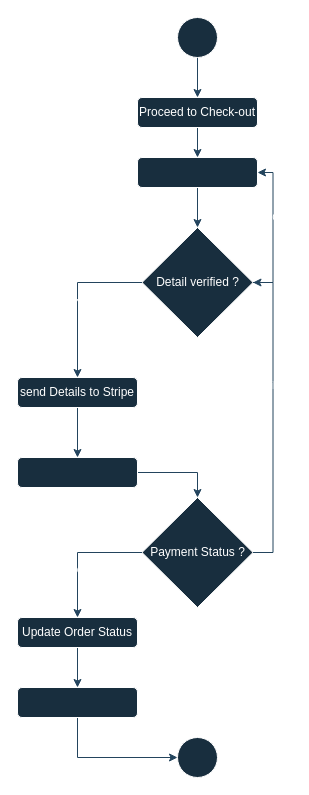
The diagram is 309 pixels wide and 795 high, and some of its shapes have lost their labels. Here are the shapes that lost their labels. From the top down, the box of each, then its label:
(136, 156, 258, 188): Add Payment Details
(16, 456, 138, 488): Send Payment Details to Stripe
(16, 686, 138, 718): Send Notification to User
